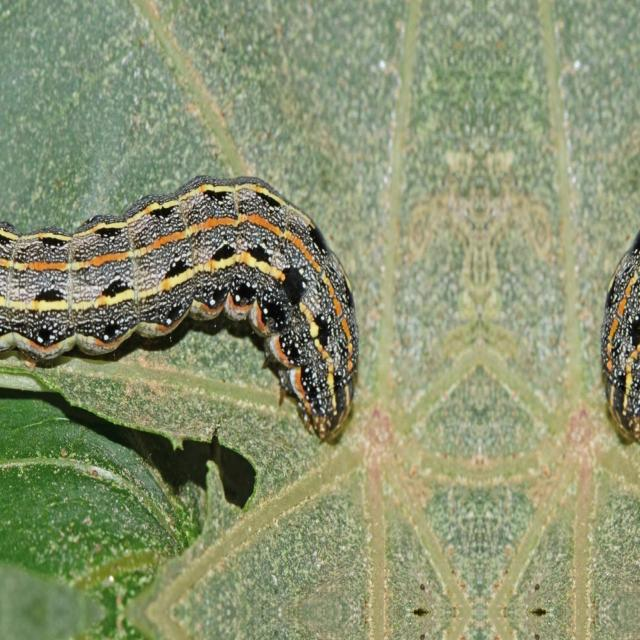armyworm: (1, 173, 360, 444), (600, 228, 639, 444)
